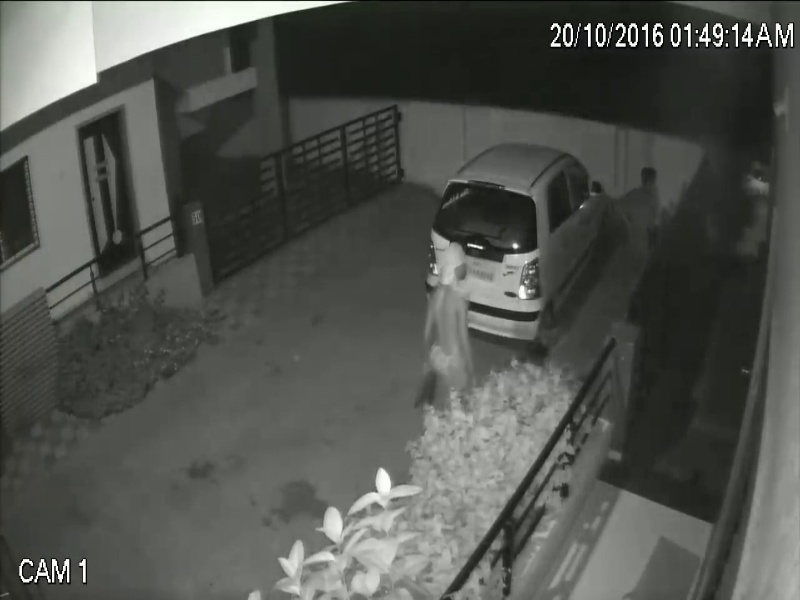car: (422, 137, 620, 358)
person: (412, 239, 478, 416), (618, 164, 666, 279)
